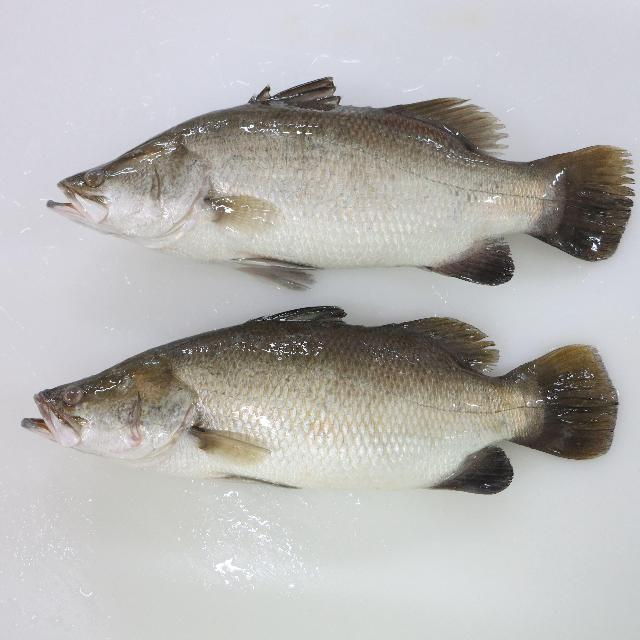Seabass: (45, 74, 640, 294), (21, 302, 617, 494)
